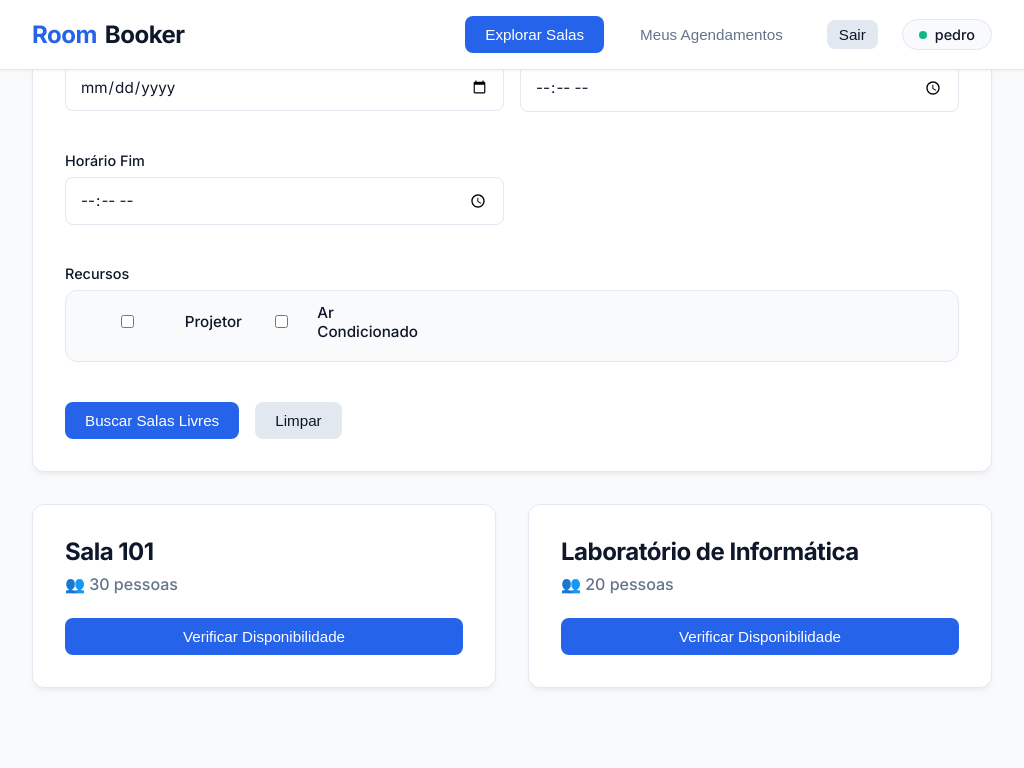
E2E 4 - Busca de salas e realização de reserva › deve abrir modal de detalhes e realizar reserva com sucesso
(page scrolled)
Clica no botão "Verificar Disponibilidade" do card Sala 101 (primeiro card)
Click the button "Verificar Disponibilidade" below "30" at x=264, y=637, box top-left (65, 618), bottom-right (463, 655)
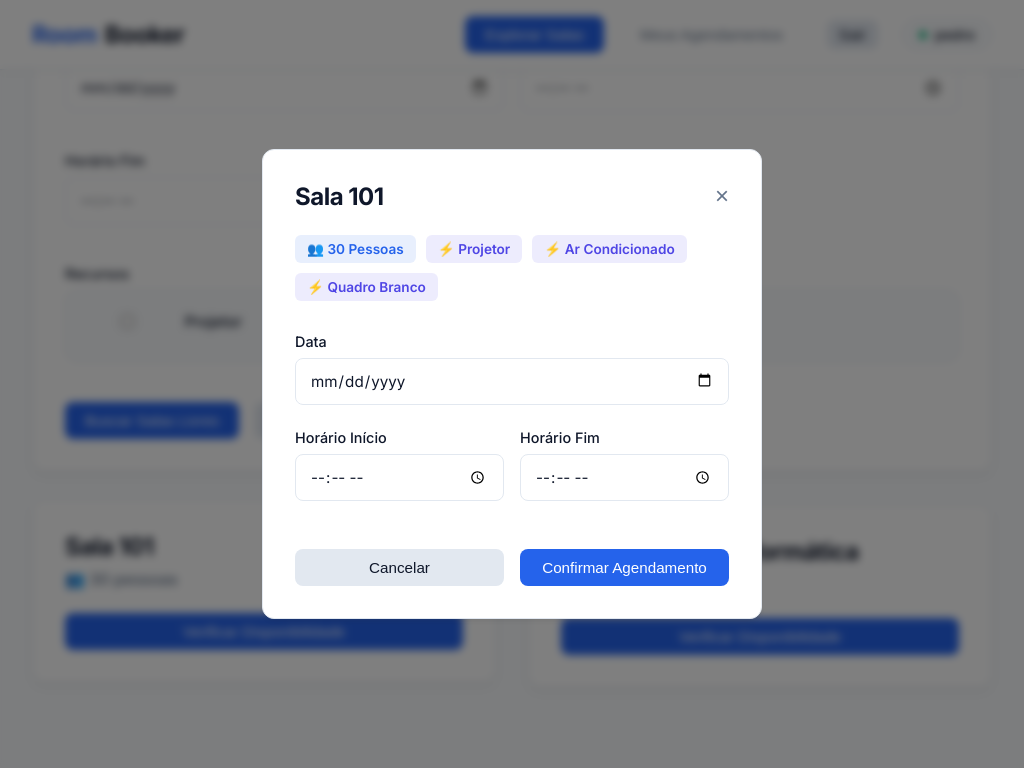
Type "2026-12-15" into the date field at x=512, y=382, box top-left (295, 358), bottom-right (729, 405)
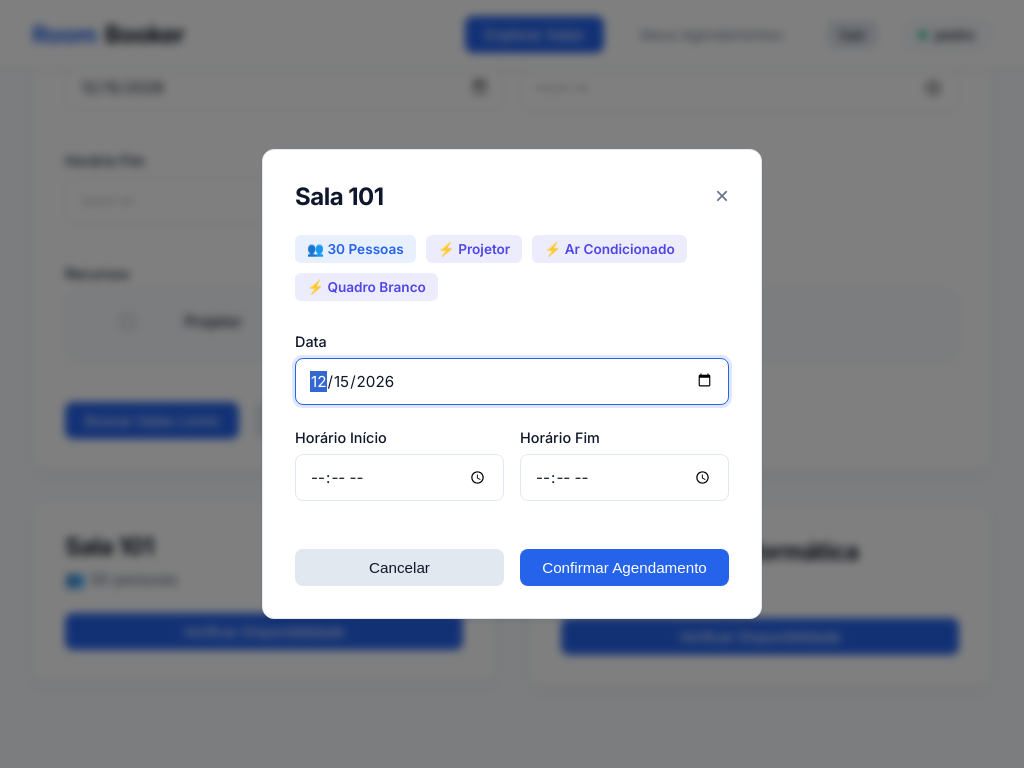
Type "09:00" into the 1st time field at x=400, y=478, box top-left (295, 454), bottom-right (504, 502)
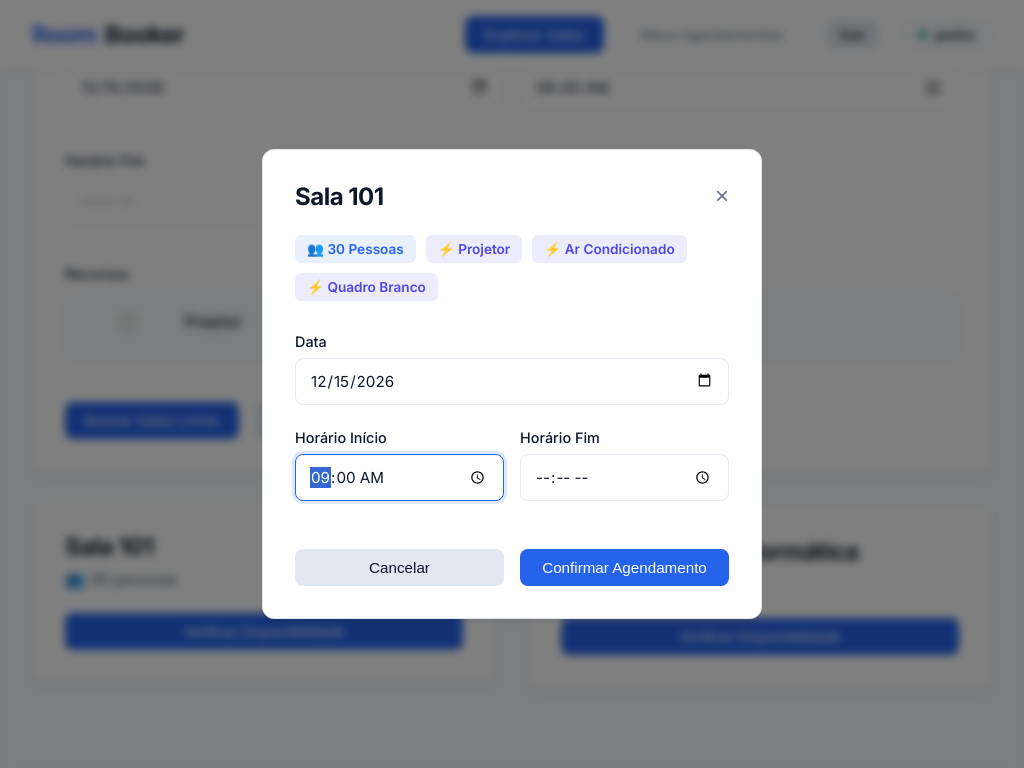
Type "10:00" into the 2nd time field at x=625, y=478, box top-left (520, 454), bottom-right (729, 502)
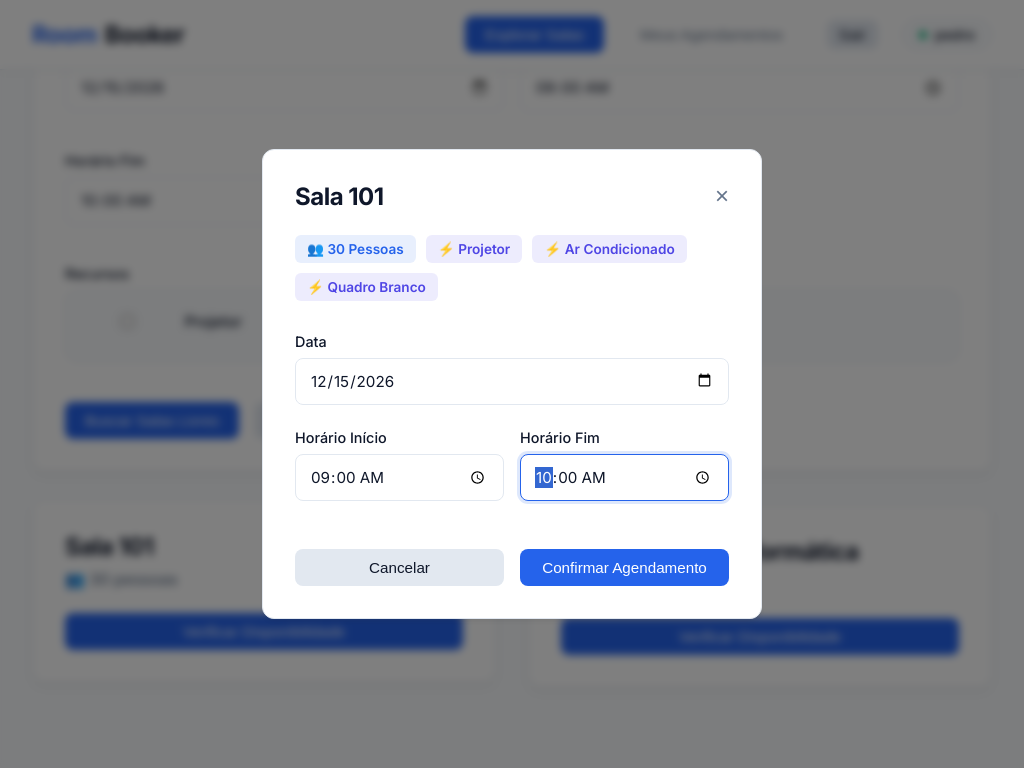
Click the button "Confirmar Agendamento" at x=625, y=569, box top-left (520, 550), bottom-right (729, 587)
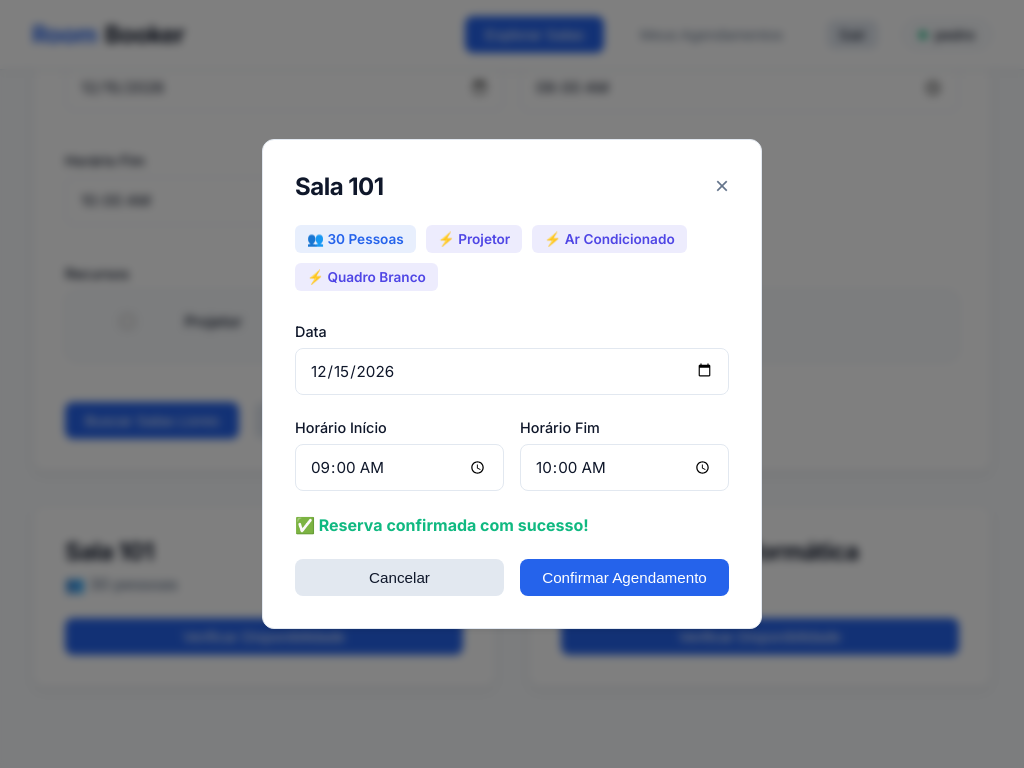
Result: the text "Reserva confirmada com sucesso" is shown at top-left (319, 515), bottom-right (589, 535)
